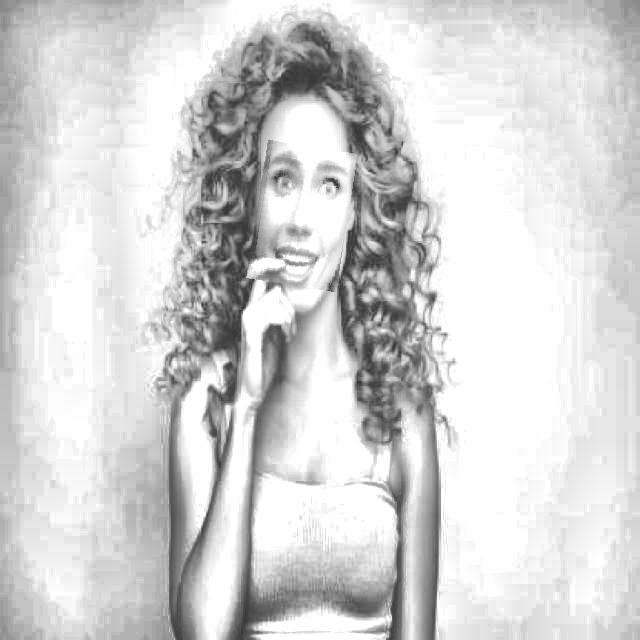happy: (251, 143, 352, 289)
